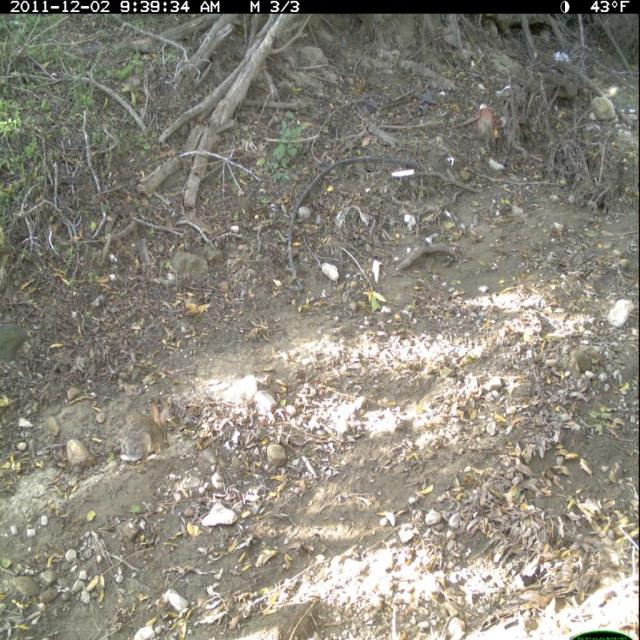rabbit: (114, 391, 177, 475)
